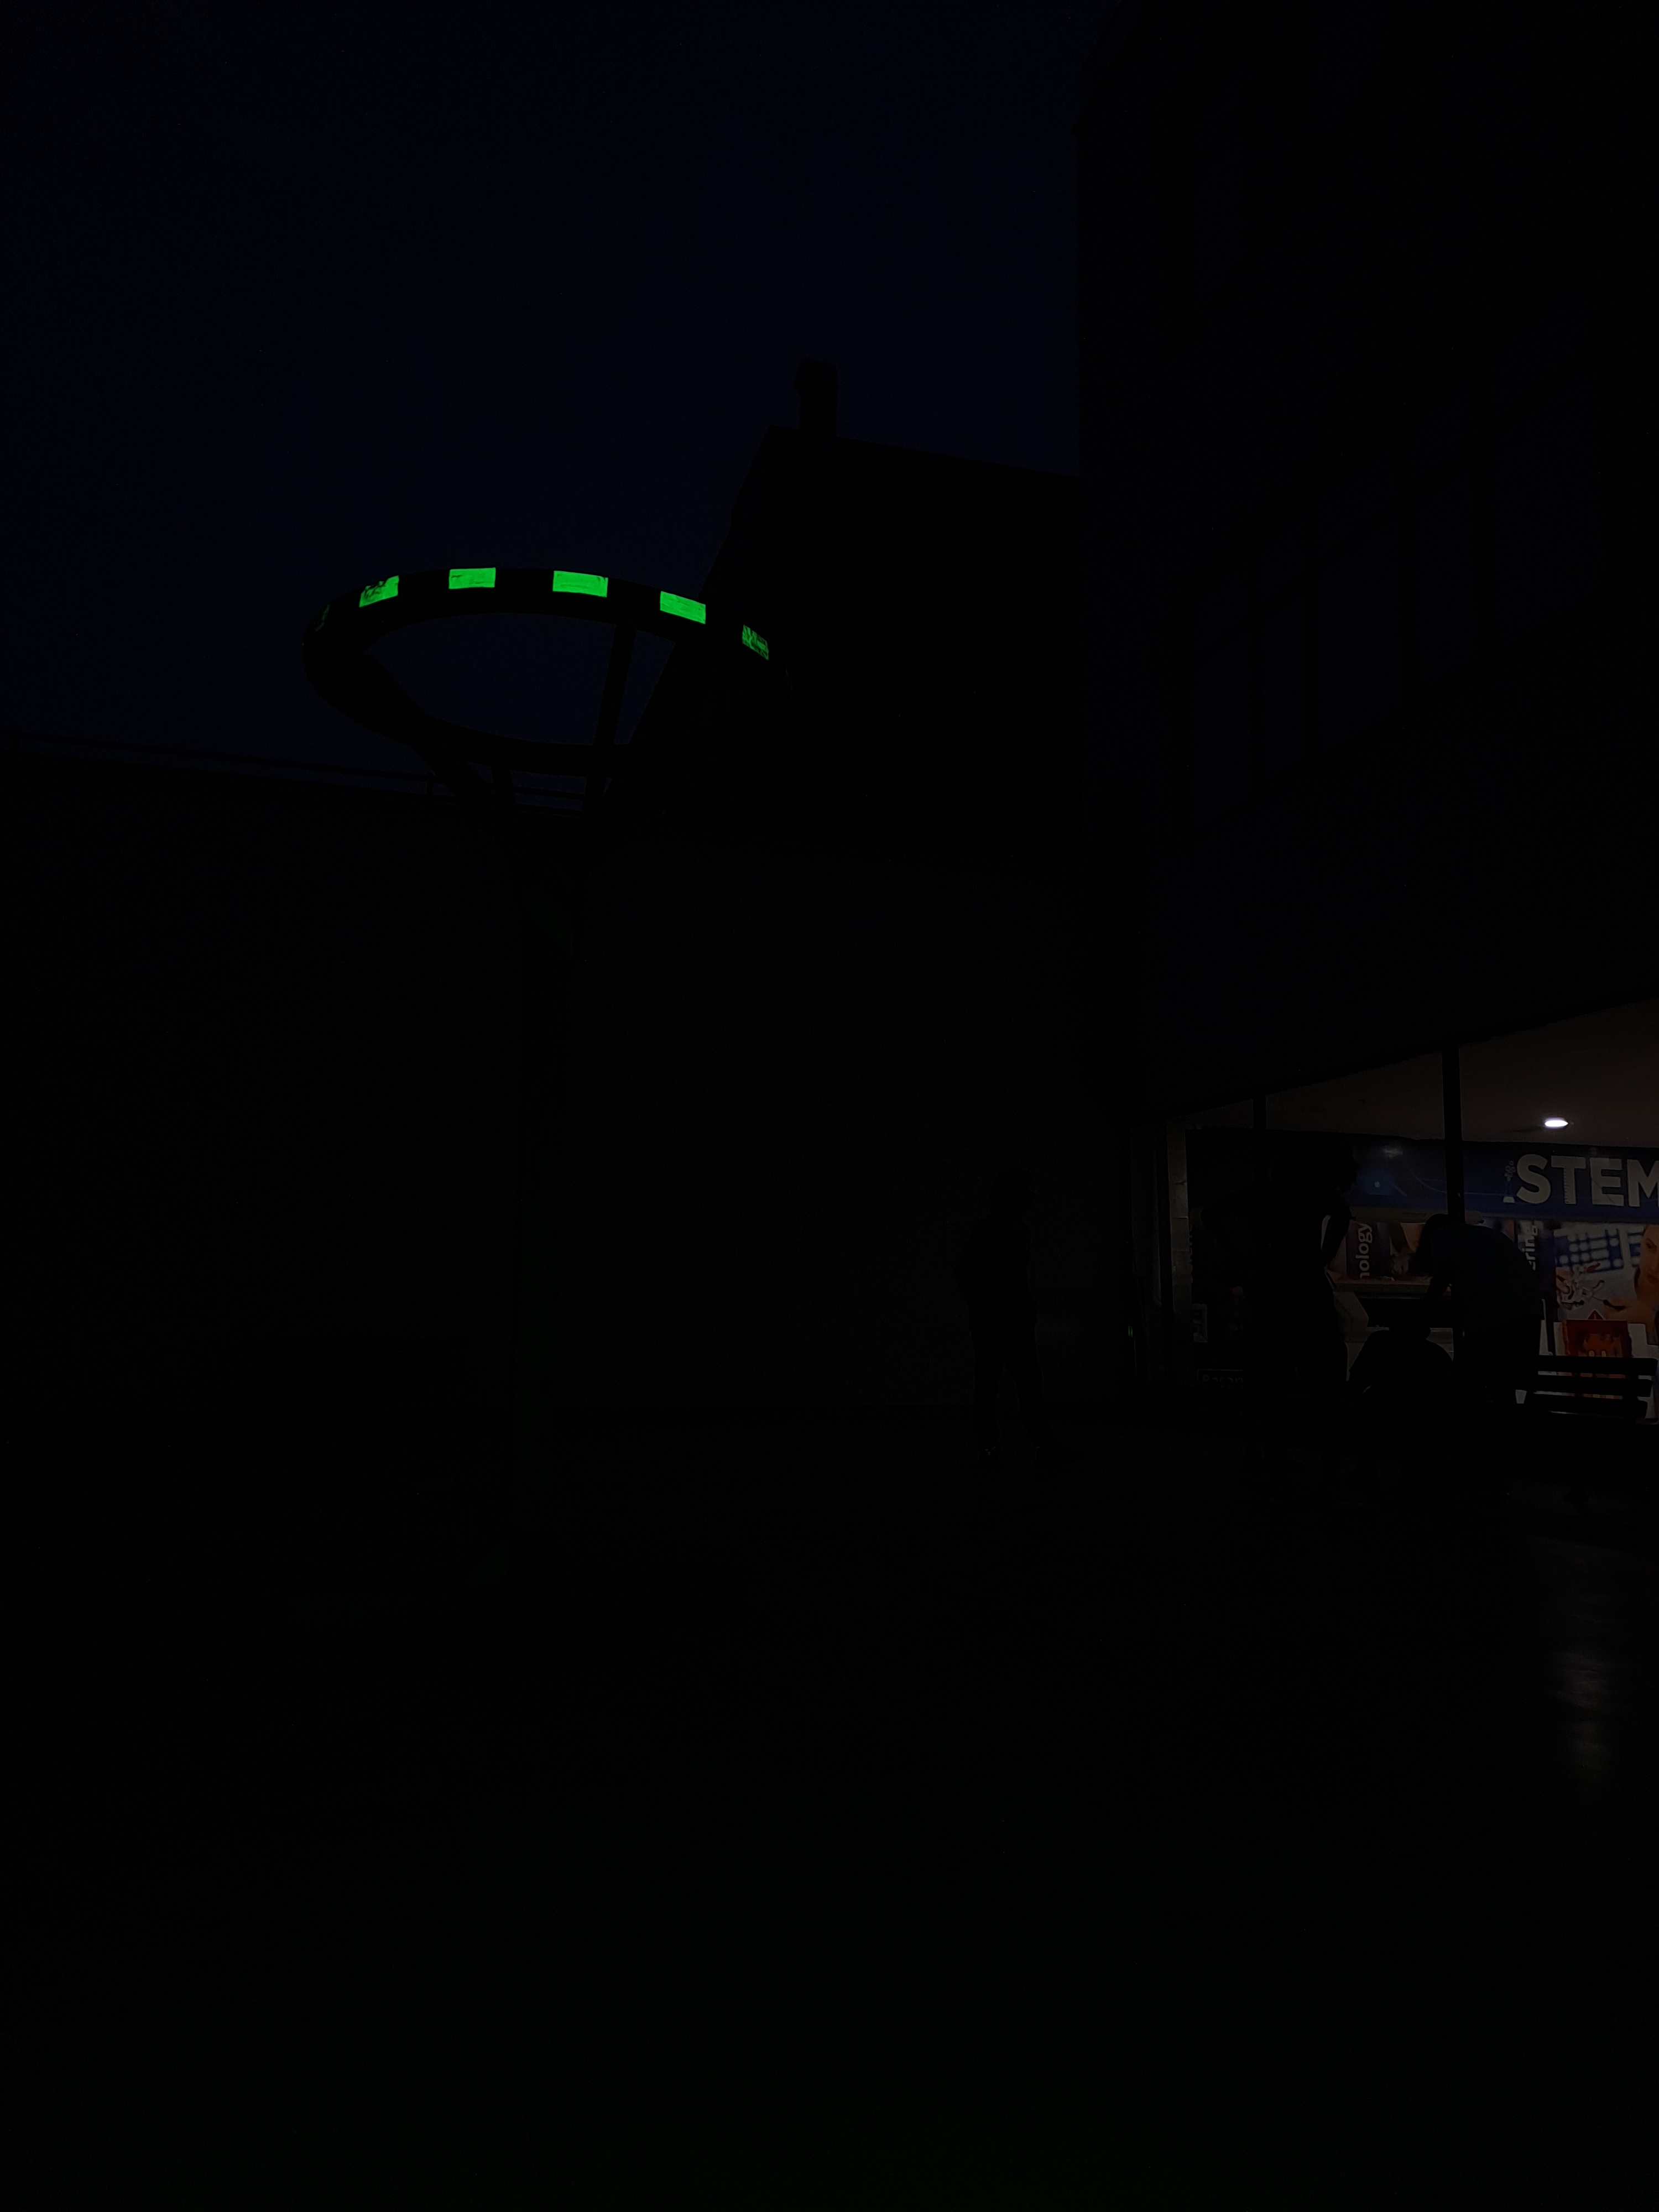hoop: (352, 564, 774, 662)
